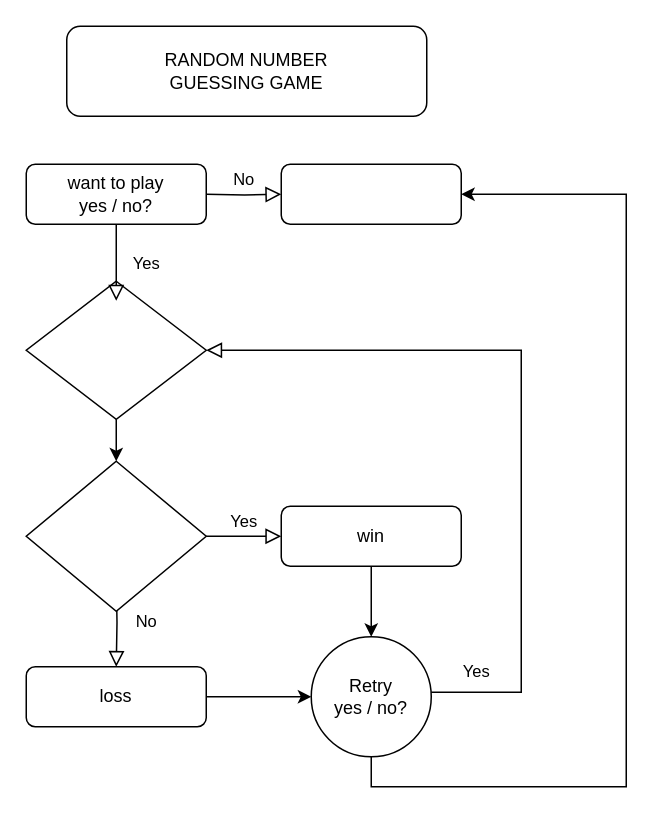
Image size: 665x825. Some labels were removed from this diagram. The centre of each missing label's shape, as x and y in pixels:
guess numbrer matches random number: point 115,535
Quit: point 370,193
type your guess number: point 115,349
